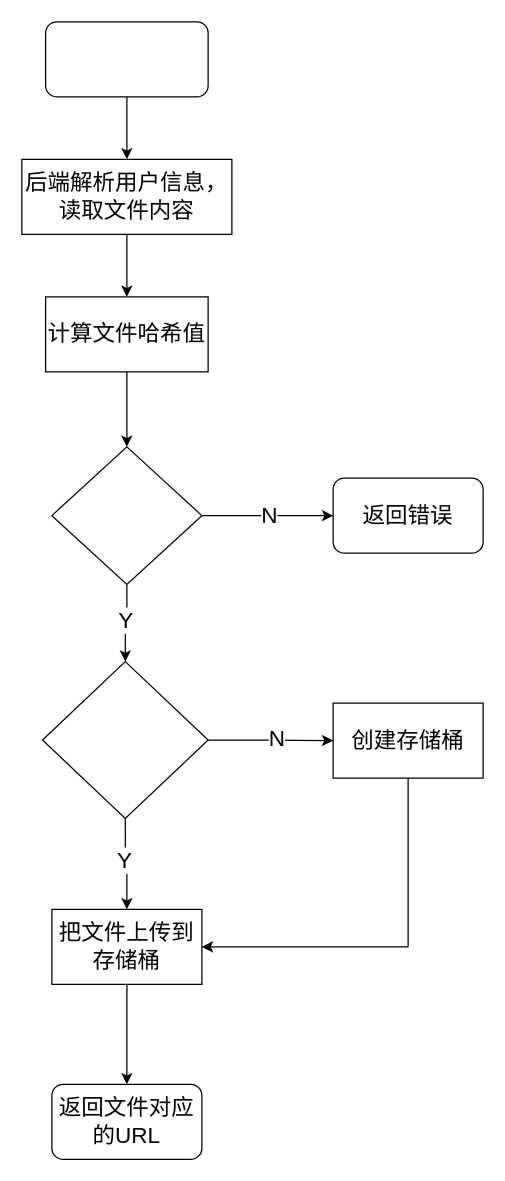
This 505x1181 diagram has some shape labels left out. The centre of each missing label's shape, as x and y in pixels:
与MinIO成功建立连接: point 126,515
前端上传文件: point 126,59
存储桶是否存在: point 124,739
